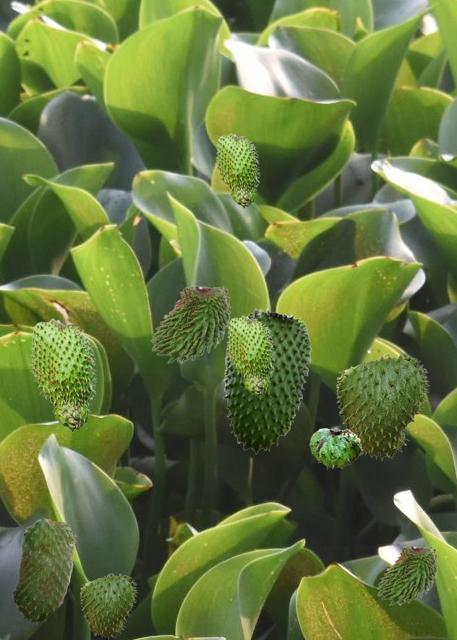guyabano: (223, 308, 310, 453), (336, 353, 429, 460), (29, 318, 96, 431), (12, 517, 75, 623), (150, 282, 230, 362), (226, 315, 274, 396), (376, 543, 437, 604), (80, 573, 137, 638), (215, 133, 259, 207), (309, 428, 361, 469)
